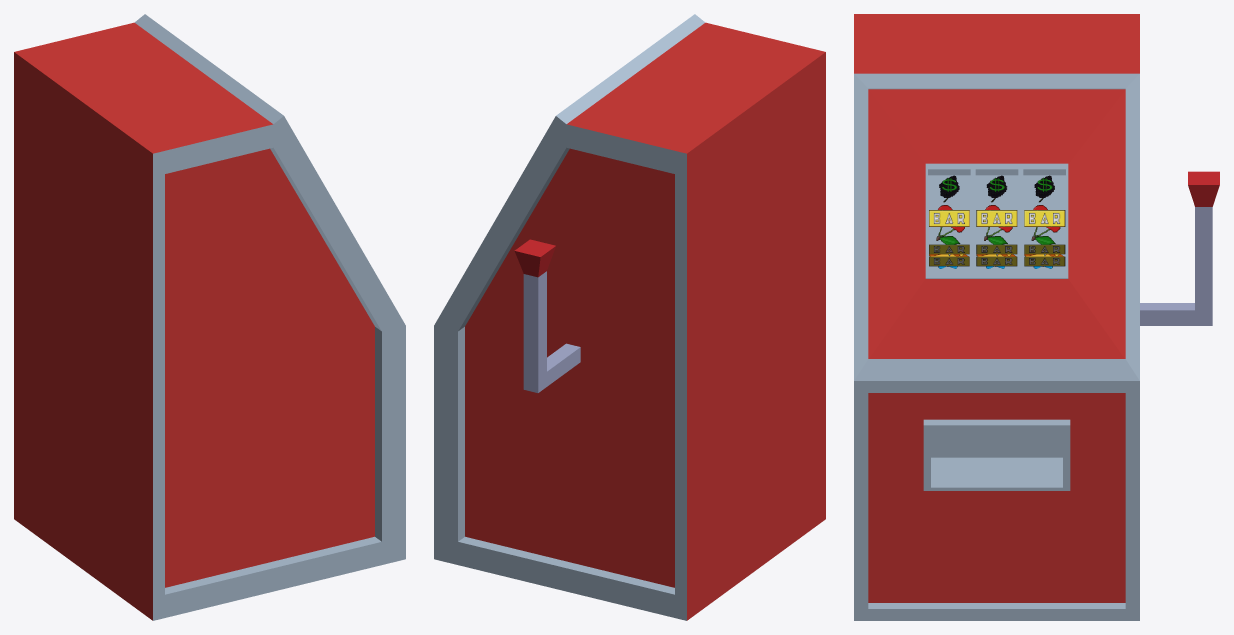
Rendered from slot-machine.fbx.
The picture shows the model from 3 angles, left to right: view 1: azimuth 30°, elevation 25°; view 2: azimuth 150°, elevation 25°; view 3: azimuth 270°, elevation 25°; orthographic projection. The views are drawn at different scales.
Visible parts, largest first — view 1: Slot Machine; view 2: Slot Machine, Lever; view 3: Slot Machine, Lever, Reel.002, Reel, Reel.001.
Part boxes in pixels (x1,y1,x2,y2): Slot Machine: (14,14,405,620); Slot Machine: (434,14,825,620); Lever: (514,239,580,392); Slot Machine: (854,14,1139,620); Lever: (1140,171,1219,325); Reel.002: (1024,175,1065,268); Reel: (976,175,1017,268); Reel.001: (929,175,969,268).
Bounding box in the file's own units: 210 × 376 × 256.
